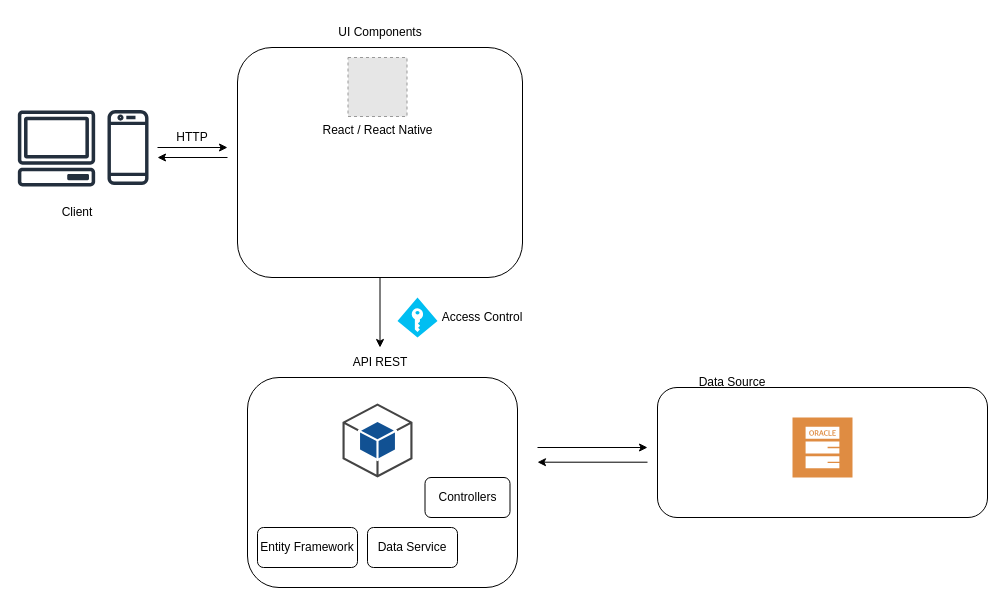
Image size: 1005x605. Some labels were removed from this diagram. Grey dashed boxes stand in for pictures. Each missing label, with the box of its shape:
.NET 8.0: (342, 402, 412, 478)
Oracle DB: (792, 417, 852, 477)
